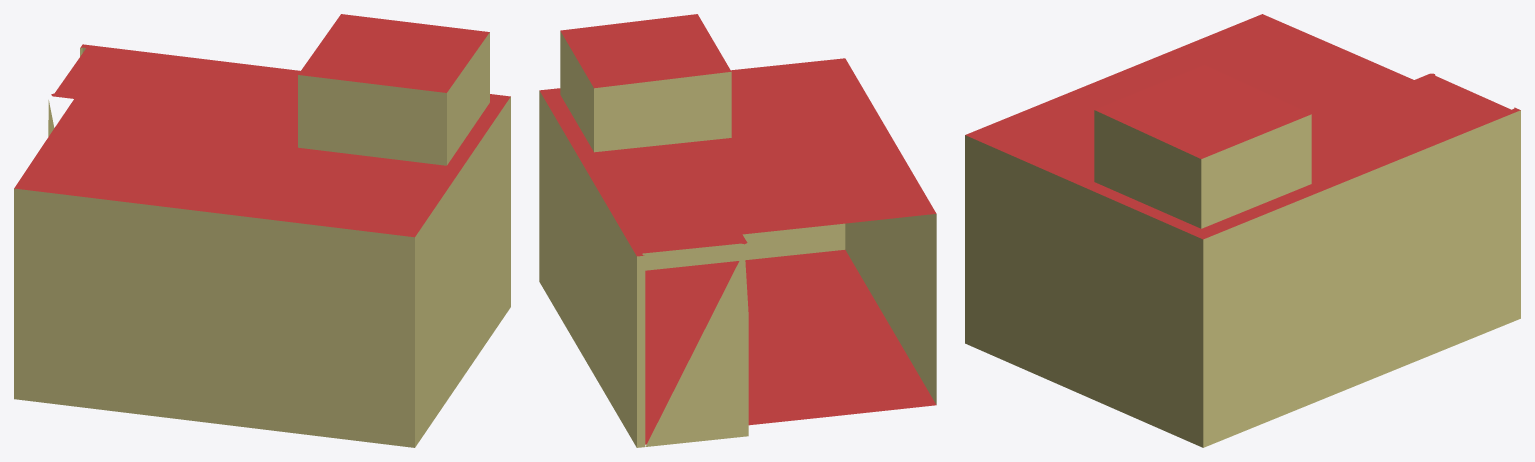
The picture shows the model from 3 angles, left to right: view 1: azimuth 30°, elevation 25°; view 2: azimuth 150°, elevation 25°; view 3: azimuth 270°, elevation 25°; orthographic projection. The views are drawn at different scales.
Size of the model in its own units: 15.44 by 16.08 by 8.95.
